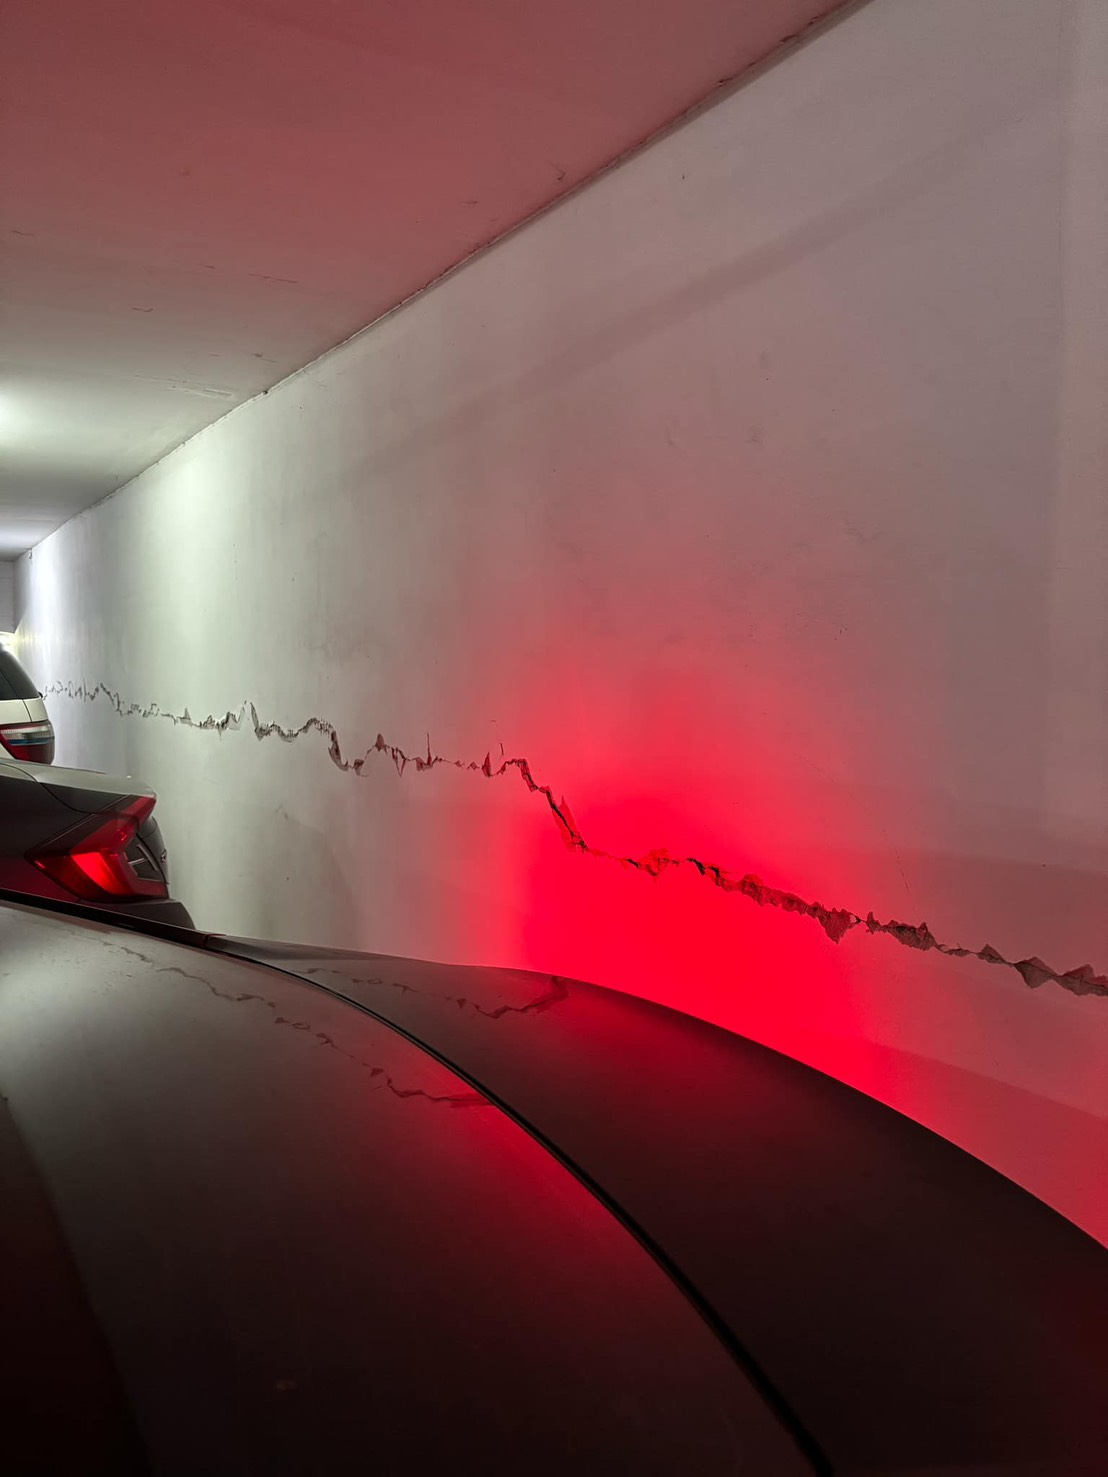Medium: (172, 694, 1013, 935)
